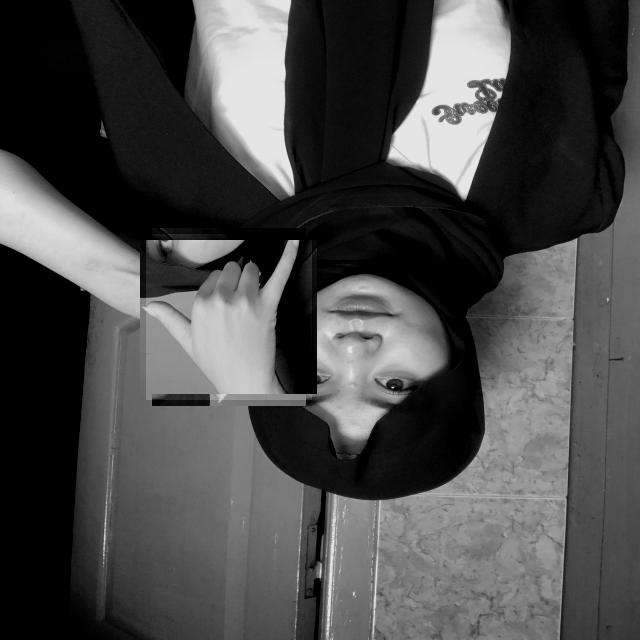telpon: (146, 233, 312, 400)
